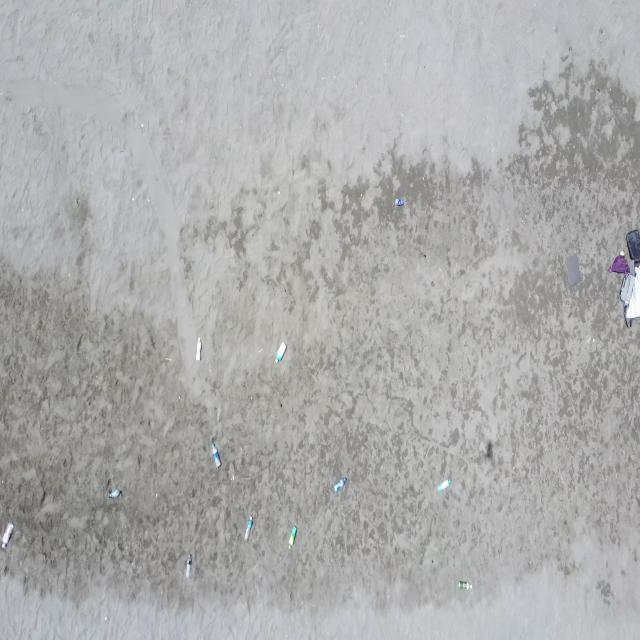plastic-bottle: (0, 520, 15, 550), (274, 340, 288, 364), (287, 525, 298, 551), (243, 517, 254, 542), (437, 477, 452, 495), (194, 335, 204, 362), (212, 442, 222, 469), (333, 477, 347, 495), (184, 554, 193, 578), (458, 578, 472, 593), (107, 488, 123, 500), (394, 197, 405, 208)
